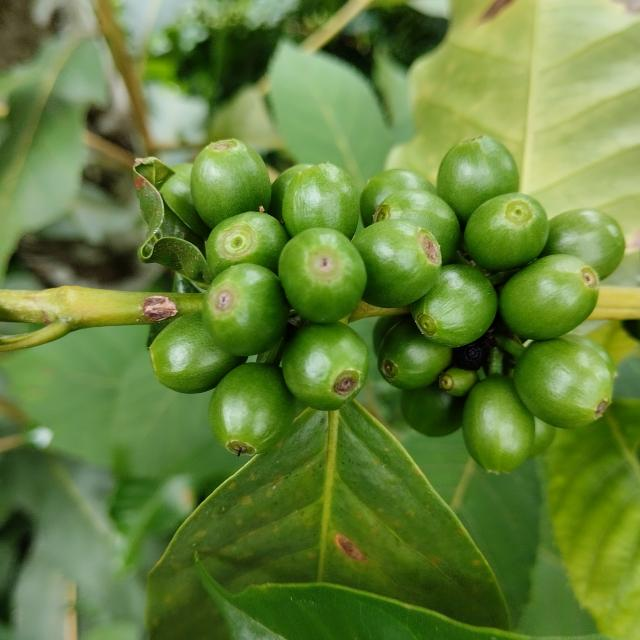green: (514, 337, 614, 429), (500, 254, 600, 340), (278, 228, 367, 323), (201, 263, 290, 356), (208, 363, 296, 456), (149, 311, 246, 394), (352, 220, 442, 308), (282, 322, 370, 411), (412, 264, 499, 348), (438, 135, 520, 224), (190, 139, 271, 228), (463, 376, 536, 474), (465, 192, 550, 272), (373, 189, 461, 264), (540, 208, 626, 280), (282, 162, 359, 238), (205, 211, 289, 276), (378, 317, 452, 390), (360, 168, 437, 227), (160, 163, 211, 238), (401, 382, 466, 437), (268, 163, 314, 222)
